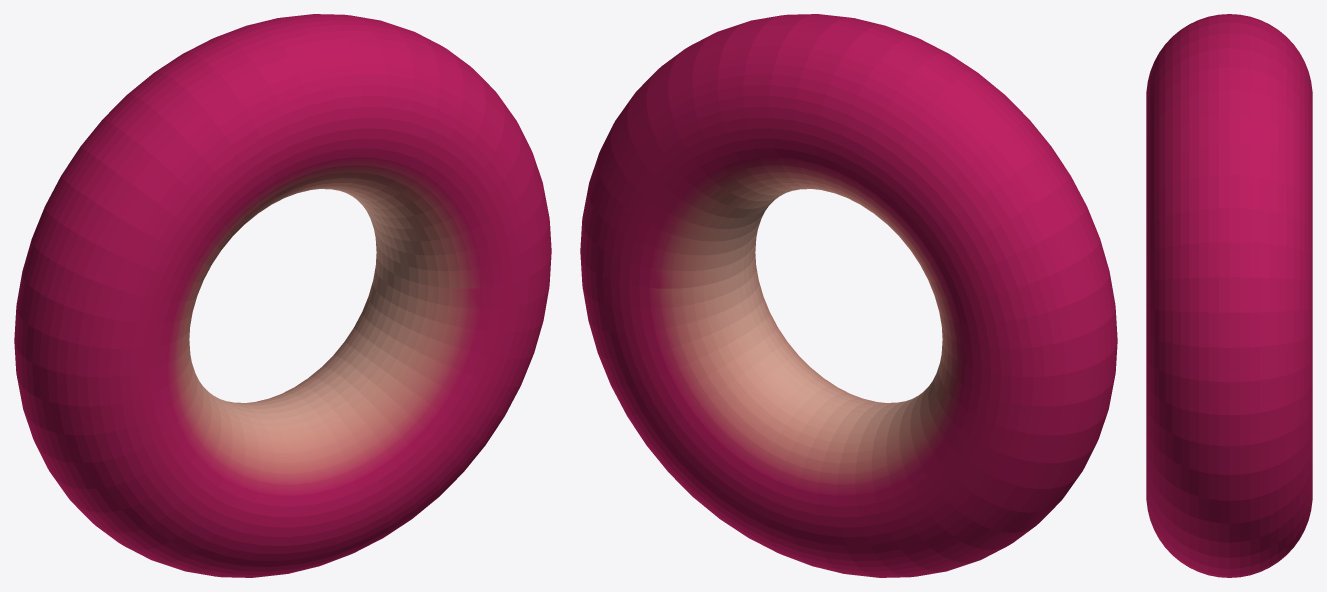
The picture shows the model from 3 angles, left to right: view 1: azimuth 30°, elevation 25°; view 2: azimuth 150°, elevation 25°; view 3: azimuth 270°, elevation 25°; orthographic projection. The views are drawn at different scales.
Parts seen in each view (by area): view 1: world; view 2: world; view 3: world.
Part boxes in pixels (x1=…): world: x1=14, y1=14, x2=551, y2=577; world: x1=580, y1=14, x2=1117, y2=577; world: x1=1146, y1=14, x2=1312, y2=577.
Size of the model in its own units: 30.27 by 30.21 by 8.92.
